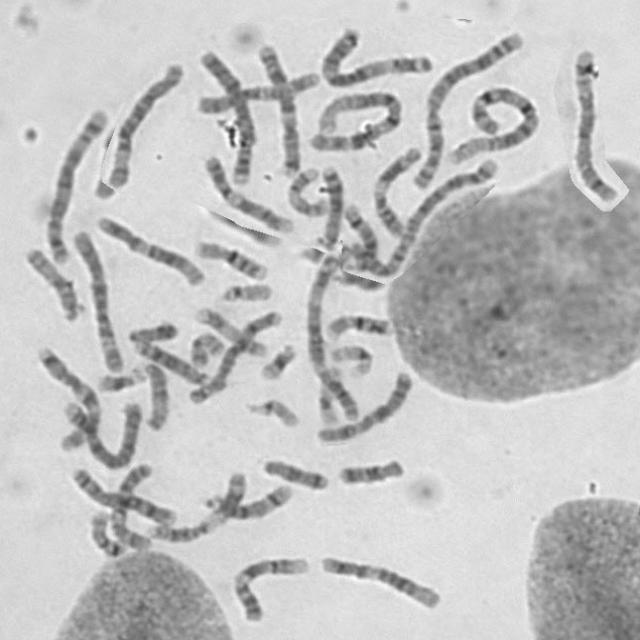A1: (441, 79, 544, 166), (304, 83, 406, 153)
A2: (403, 24, 527, 190), (342, 150, 504, 277)
A3: (299, 245, 363, 425), (314, 20, 436, 89)
B4: (192, 42, 259, 188), (55, 392, 144, 472)
B5: (37, 100, 111, 265), (564, 42, 620, 203)
C10: (188, 64, 322, 115), (105, 457, 156, 552)
C11: (140, 464, 250, 545), (366, 139, 424, 238)
C12: (89, 208, 208, 288), (314, 548, 444, 612)
C6: (100, 54, 186, 190), (63, 223, 127, 375)
C7: (28, 339, 105, 453), (249, 36, 303, 178)
C8: (182, 302, 284, 407), (64, 460, 180, 528)
C9: (196, 149, 296, 234), (226, 548, 312, 623)
D13: (126, 333, 211, 386), (313, 159, 346, 251)
D14: (198, 477, 296, 521), (337, 197, 380, 269)
D15: (17, 240, 85, 323), (134, 356, 172, 432)
E16: (188, 232, 271, 282), (320, 307, 395, 341)
E17: (188, 299, 269, 359), (280, 160, 330, 218)
E18: (255, 451, 331, 492), (332, 452, 407, 488)
F19: (310, 359, 347, 428), (323, 337, 375, 378)
F20: (83, 504, 130, 559), (182, 324, 228, 370)
G21: (253, 336, 298, 381), (91, 361, 147, 394)
G22: (241, 392, 302, 429), (214, 275, 275, 304)
X: (310, 364, 416, 444), (188, 64, 322, 115)
Y: (121, 313, 180, 345)
